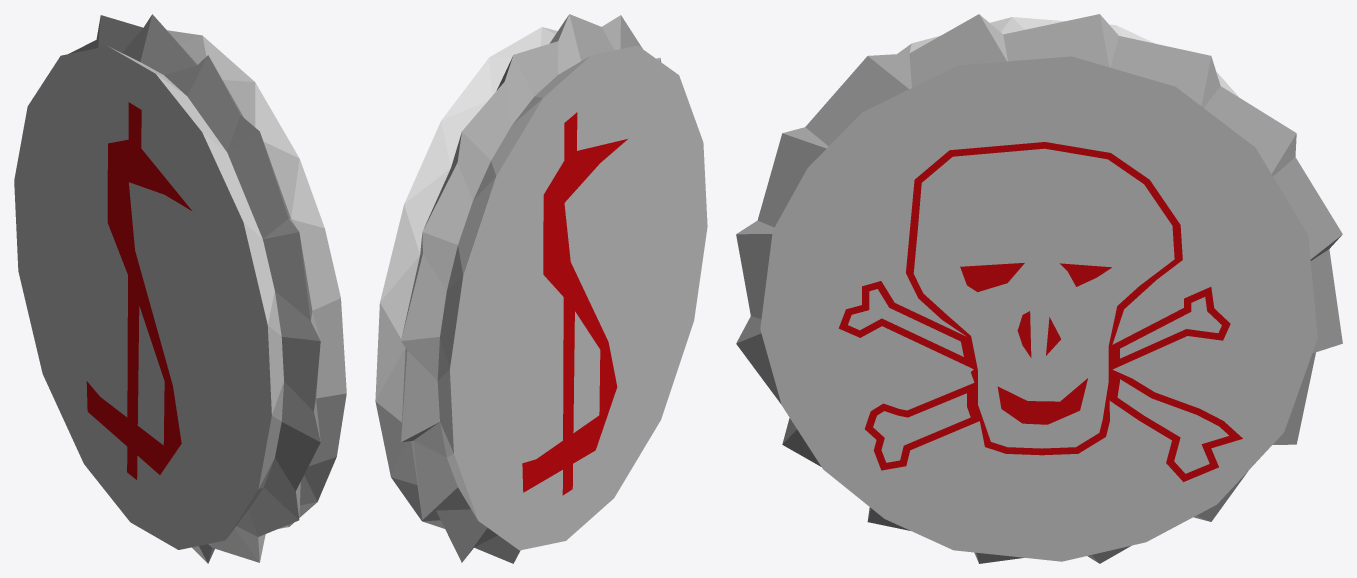
The model's file is Plinko Puck.glb.
3 views of the same model, side by side, from view 1: azimuth 30°, elevation 25°; view 2: azimuth 150°, elevation 25°; view 3: azimuth 270°, elevation 25° (orthographic). The views are drawn at different scales.
Parts seen in each view (by area): view 1: Puck; view 2: Puck; view 3: Puck.
Part boxes in pixels (x1,y1,x2,y2): Puck: [14, 14, 346, 563]; Puck: [375, 14, 707, 563]; Puck: [736, 14, 1342, 563].
Size of the model in its own units: 0.0762 by 0.4972 by 0.4972.
